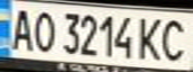1: (97, 11, 118, 58)
2: (78, 10, 100, 57)
3: (57, 9, 81, 56)
4: (112, 12, 139, 60)
A: (3, 4, 36, 52)
C: (157, 15, 193, 63)
K: (133, 14, 166, 61)
O: (27, 7, 57, 54)
